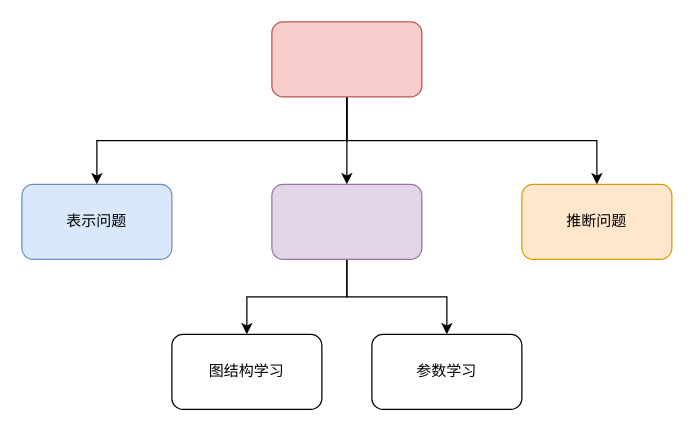
Some shapes in this 694 by 431 pixel diagram are drawn without their labels. The centre of each missing label's shape, as x and y in pixels:
学习问题: the point at 346,221
概率图模型: the point at 346,59
